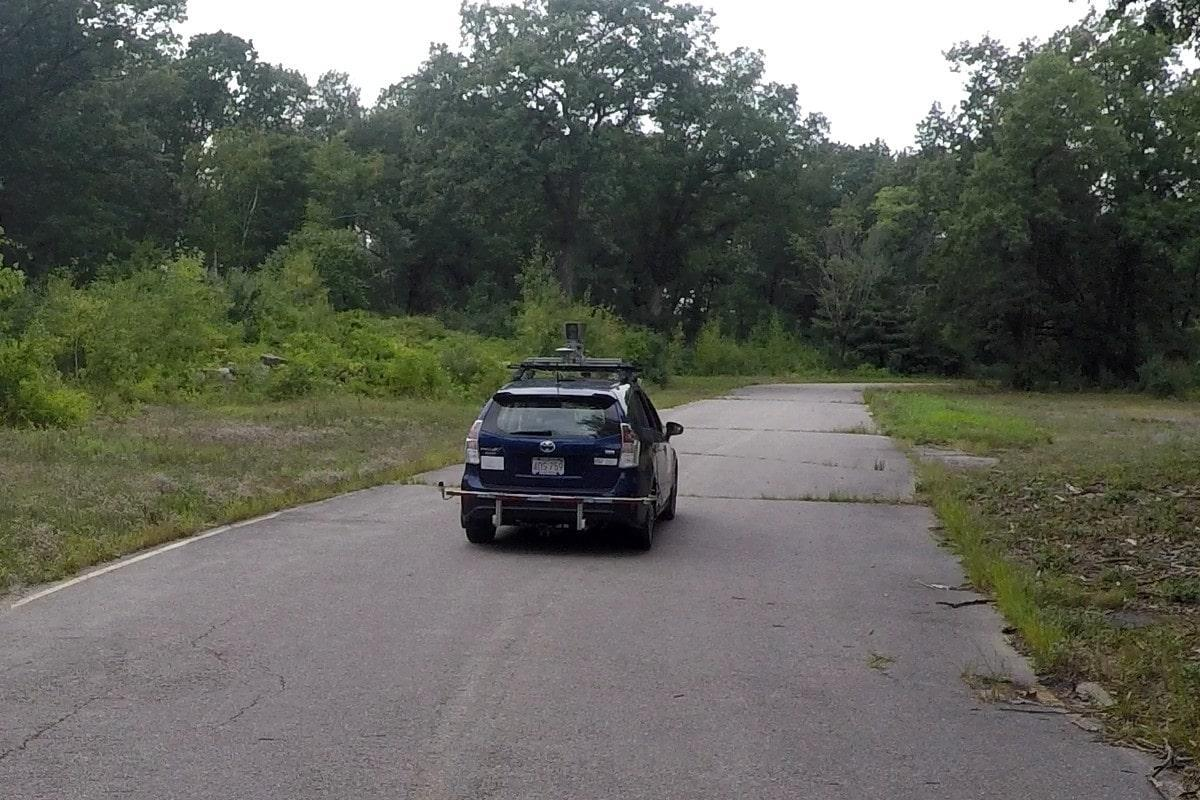car: (434, 350, 703, 554)
